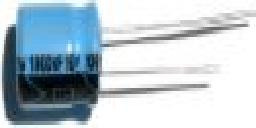Electrolytic-Capacitor: (10, 2, 256, 104)
